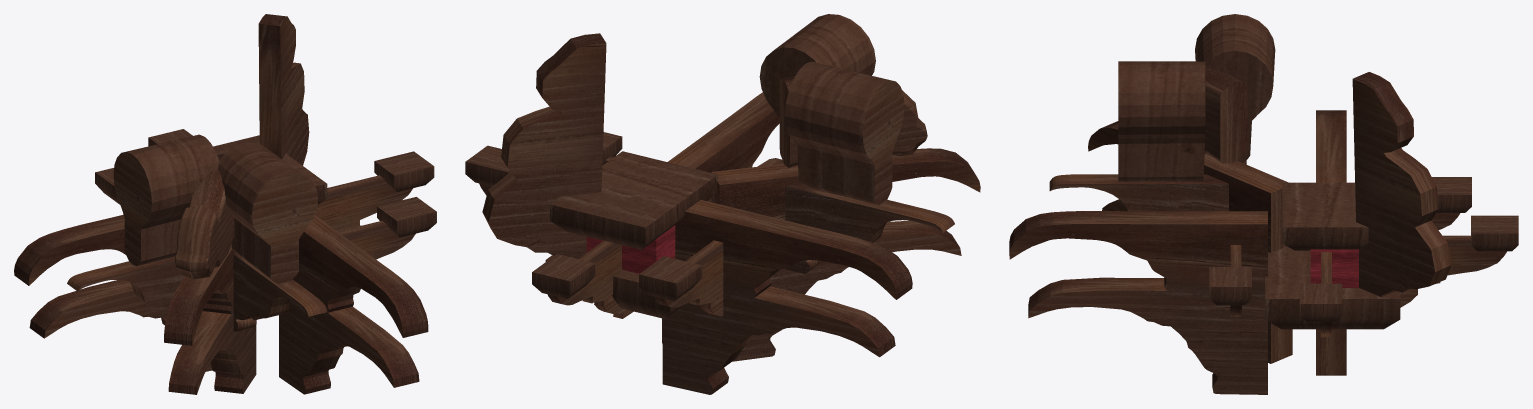
The model's file is SM_R_DancheongCorner_11.fbx.
3 views of the same model, side by side, from view 1: azimuth 30°, elevation 25°; view 2: azimuth 150°, elevation 25°; view 3: azimuth 270°, elevation 25° (orthographic). The views are drawn at different scales.
Visible parts, largest first — view 1: SM_R_DancheongCorner_11; view 2: SM_R_DancheongCorner_11; view 3: SM_R_DancheongCorner_11.
Boxes of the visible parts, x1,y1,x2,y2 form: SM_R_DancheongCorner_11: (14,14,436,394); SM_R_DancheongCorner_11: (465,14,980,394); SM_R_DancheongCorner_11: (1009,14,1518,394).
Size of the model in its own units: 195 by 207 by 146.
4 materials, 4 textured.
